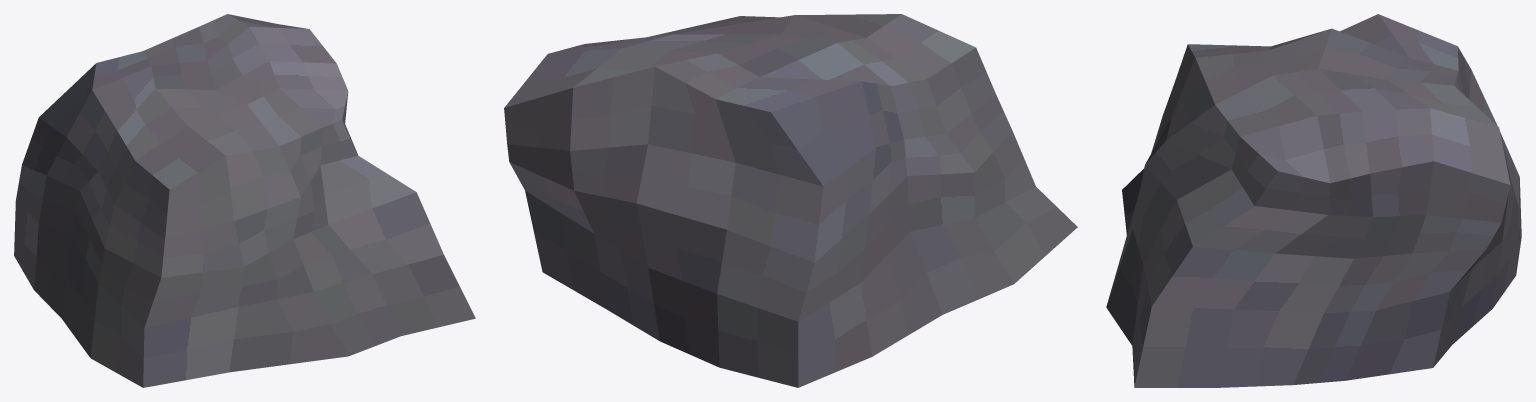
Rendered from stone.fbx.
3 renders of one model, left to right at view 1: azimuth 30°, elevation 25°; view 2: azimuth 150°, elevation 25°; view 3: azimuth 270°, elevation 25°, orthographic. The views are drawn at different scales.
Parts seen in each view (by area): view 1: Cube; view 2: Cube; view 3: Cube.
Boxes of the visible parts, <box> form: Cube: <box>14,14,475,387</box>; Cube: <box>504,14,1077,387</box>; Cube: <box>1106,14,1521,387</box>.
Bounding box in the file's own units: 632 × 397 × 620.
Materials: 1 (1 with a texture image).
